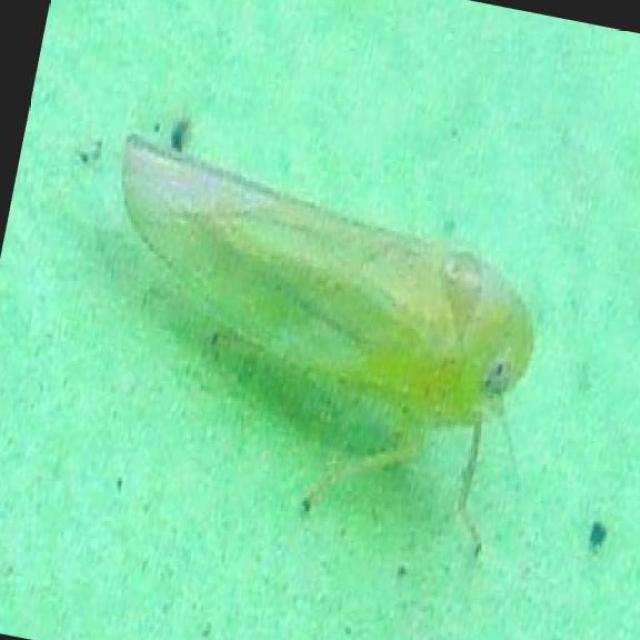green leaf hopper: (121, 134, 532, 507)
